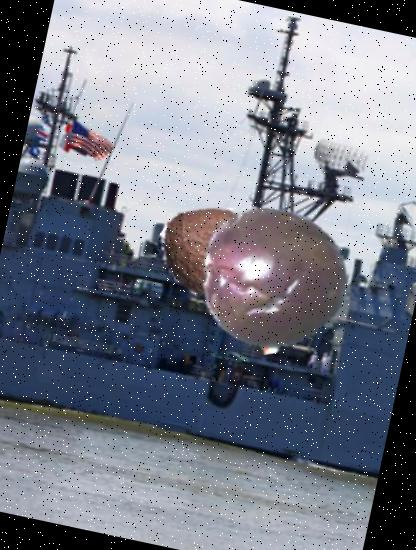Cocos: (148, 186, 284, 322)
Passion: (186, 190, 364, 367)
